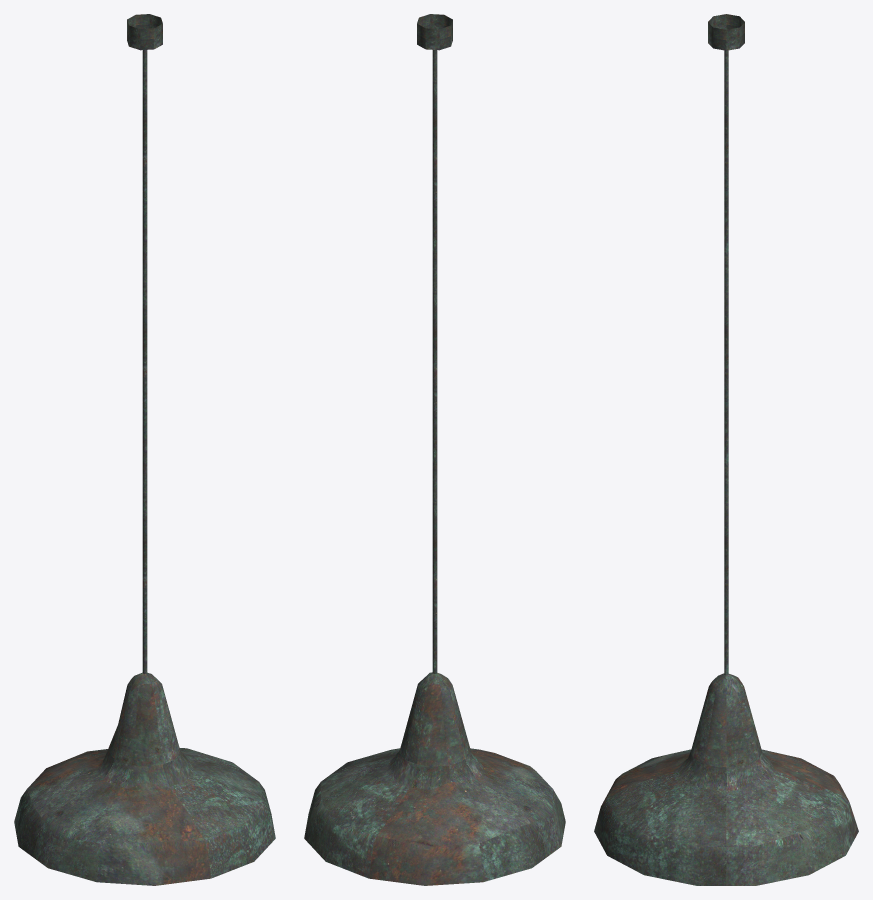
File: lamp.FBX
3 views of the same model, side by side, from view 1: azimuth 30°, elevation 25°; view 2: azimuth 150°, elevation 25°; view 3: azimuth 270°, elevation 25° (orthographic).
Visible parts, largest first — view 1: lamp; view 2: lamp; view 3: lamp.
Part boxes in pixels (x1,y1,x2,y2): lamp: (14,14,275,885); lamp: (304,14,565,885); lamp: (594,14,858,885).
Size of the model in its own units: 0.5551 by 1.92 by 0.5694.
